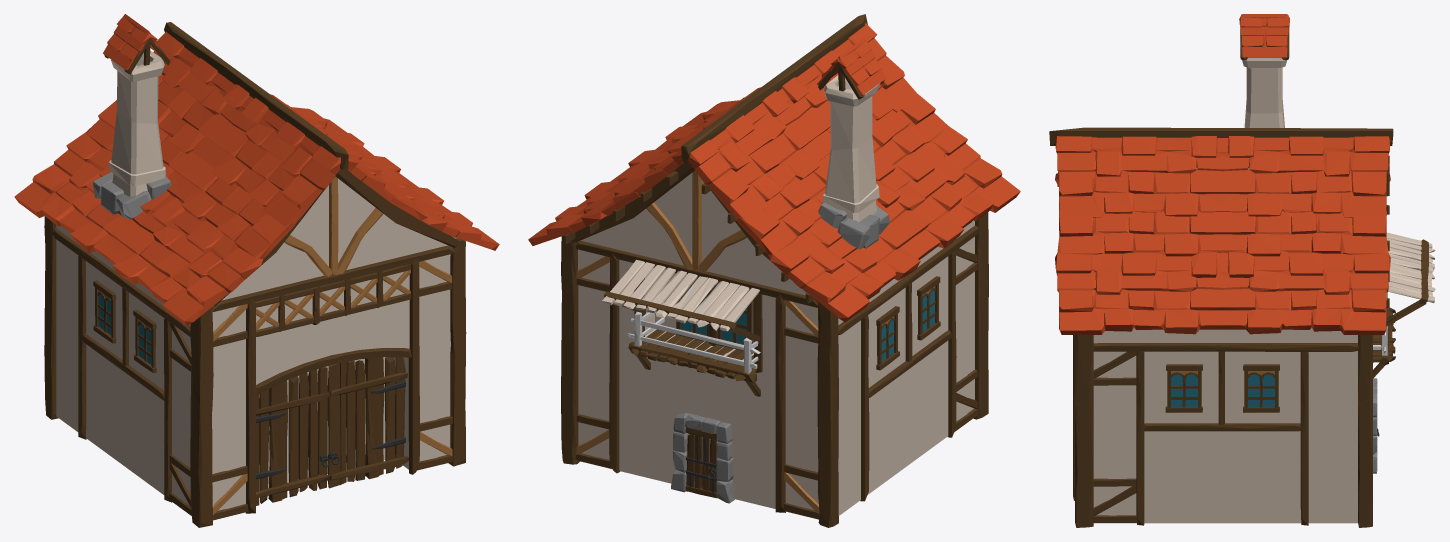
Rendered from SM_stables.fbx.
3 renders of one model, left to right at view 1: azimuth 30°, elevation 25°; view 2: azimuth 150°, elevation 25°; view 3: azimuth 270°, elevation 25°, orthographic. The views are drawn at different scales.
Parts seen in each view (by area): view 1: Object32398; view 2: Object32398; view 3: Object32398.
Boxes of the visible parts, x1,y1,x2,y2 form: Object32398: (14, 14, 499, 527); Object32398: (528, 14, 1020, 527); Object32398: (1049, 14, 1435, 527).
Bounding box in the file's own units: 433 × 558 × 481.
